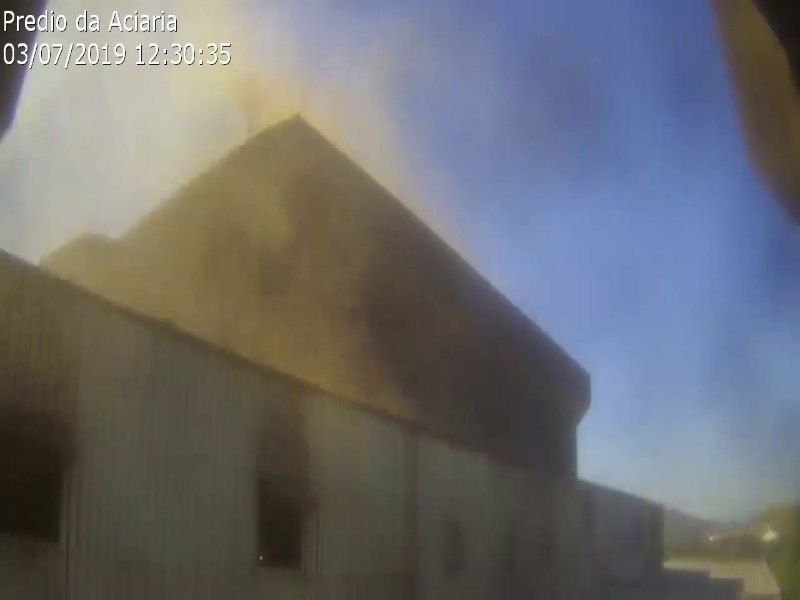Galpao: (2, 249, 593, 600)
Janela: (255, 481, 308, 570)
Pessimo: (142, 276, 229, 312), (188, 310, 249, 331), (227, 324, 272, 348), (261, 336, 306, 360), (293, 348, 338, 372), (136, 248, 181, 272), (227, 189, 272, 213), (159, 217, 204, 241), (193, 249, 238, 273), (59, 233, 104, 257), (276, 296, 321, 320), (105, 268, 134, 286), (121, 279, 150, 297), (80, 264, 109, 282)
